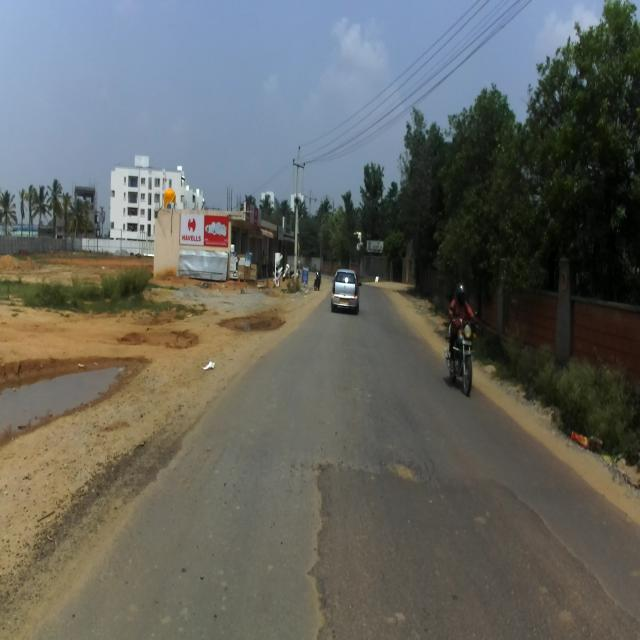car ahead at: (329, 265, 358, 315)
motorcycle ahead at: (445, 315, 478, 398)
